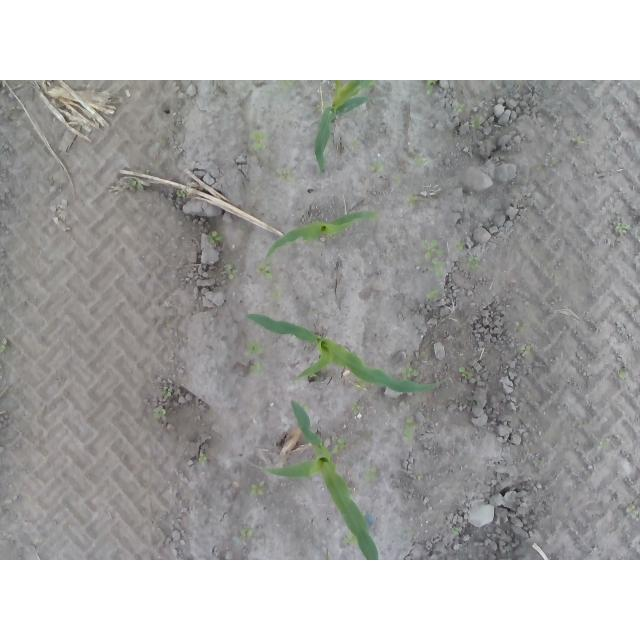Maize: (253, 397, 381, 560), (247, 315, 434, 394), (312, 81, 377, 180), (265, 207, 380, 261)
Weeds: (424, 238, 448, 278), (250, 130, 273, 151), (402, 417, 417, 443), (255, 263, 274, 281), (277, 168, 294, 184), (342, 530, 358, 546), (208, 231, 225, 246), (247, 342, 266, 355), (330, 437, 345, 452), (364, 467, 378, 483), (426, 288, 442, 302), (130, 178, 147, 191), (277, 80, 295, 92), (251, 482, 265, 497), (625, 505, 640, 519), (223, 263, 238, 277), (615, 222, 631, 234), (240, 527, 257, 538), (468, 256, 480, 271), (401, 368, 419, 378), (0, 335, 10, 353), (424, 80, 435, 96), (406, 194, 419, 207), (161, 386, 174, 399), (459, 366, 473, 378), (153, 406, 167, 418), (571, 135, 586, 146), (351, 401, 362, 416), (415, 157, 431, 167), (196, 452, 208, 465), (452, 103, 465, 114), (370, 164, 384, 173), (454, 239, 466, 249), (615, 369, 625, 380), (471, 120, 482, 129), (597, 440, 608, 449), (518, 344, 530, 352), (354, 383, 367, 390), (175, 190, 185, 199), (452, 528, 461, 537), (255, 363, 262, 373)
